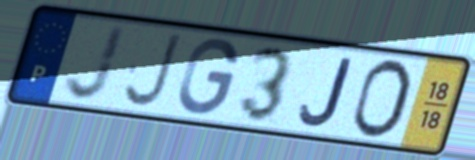3: (237, 44, 298, 124)
G: (176, 36, 242, 118)
J: (61, 23, 129, 104), (120, 30, 185, 111), (297, 55, 355, 129)
O: (347, 56, 415, 141)
